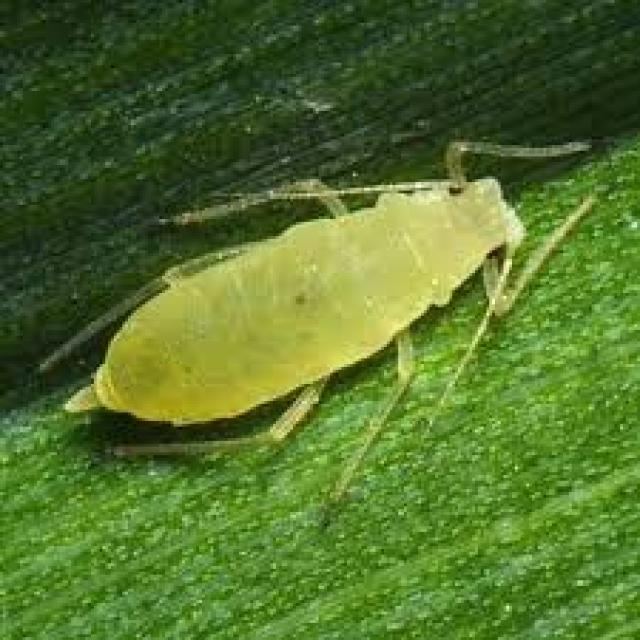Aphids: (55, 95, 610, 508)
